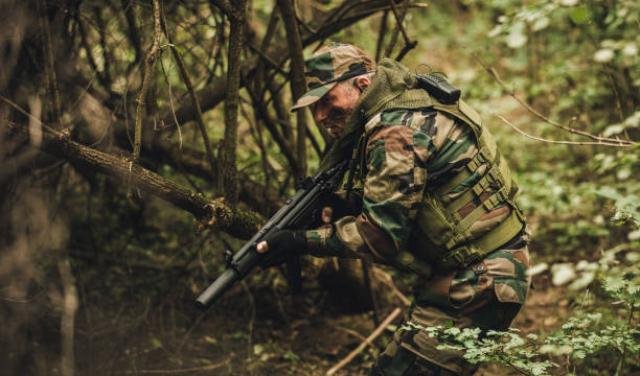other: (300, 41, 530, 329)
